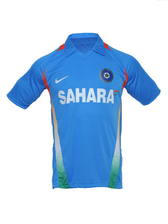clothoes: (5, 31, 162, 192)
